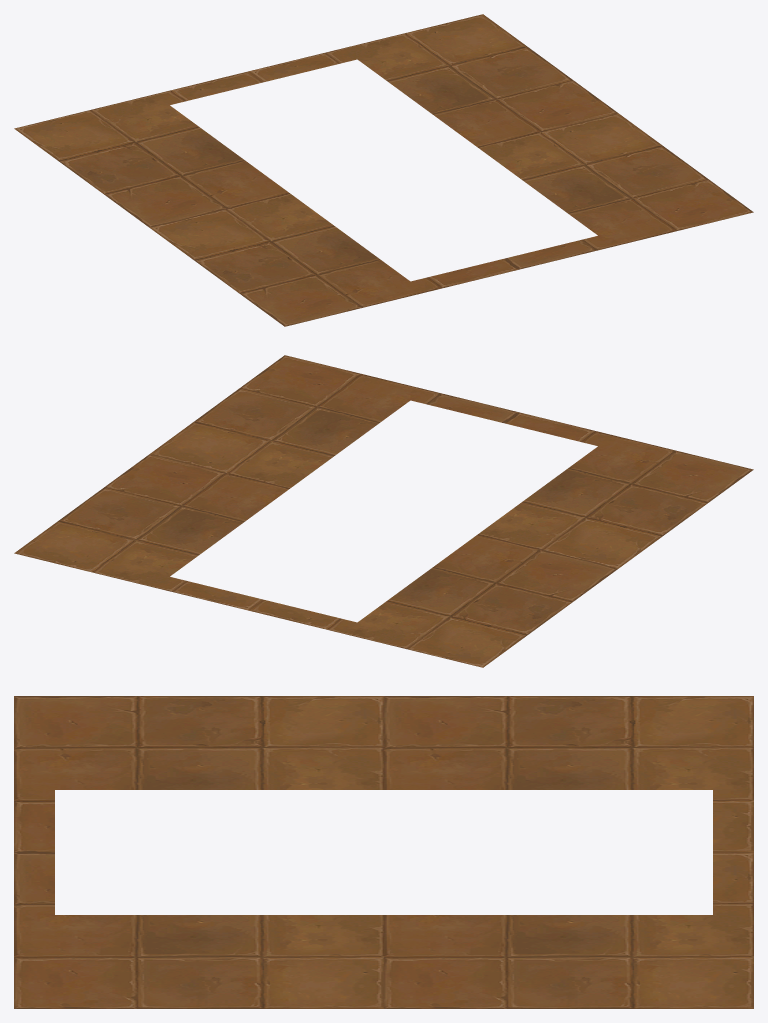
File: shakian_bottom_base4_tombtile03_01.FBX
The picture shows the model from 3 angles, top to bottom: view 1: azimuth 30°, elevation 25°; view 2: azimuth 150°, elevation 25°; view 3: azimuth 270°, elevation 25°; orthographic projection. The views are drawn at different scales.
Visible parts, largest first — view 1: shakian_bottom_base4_tombtile03_01; view 2: shakian_bottom_base4_tombtile03_01; view 3: shakian_bottom_base4_tombtile03_01.
Part boxes in pixels (bbox=[...]): shakian_bottom_base4_tombtile03_01: bbox=[14, 14, 753, 326]; shakian_bottom_base4_tombtile03_01: bbox=[14, 355, 753, 667]; shakian_bottom_base4_tombtile03_01: bbox=[14, 696, 753, 1008].
Bounding box in the file's own units: 8 × 2.27e-15 × 8.
